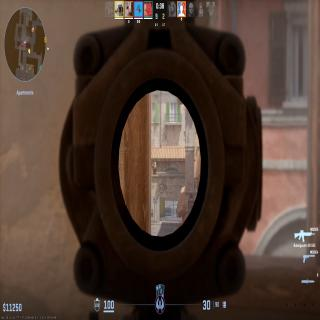T-Body: (152, 159, 157, 174)
T-Head: (152, 158, 154, 162)
